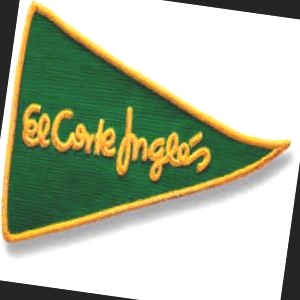corte_ingles: (214, 90, 237, 179)
